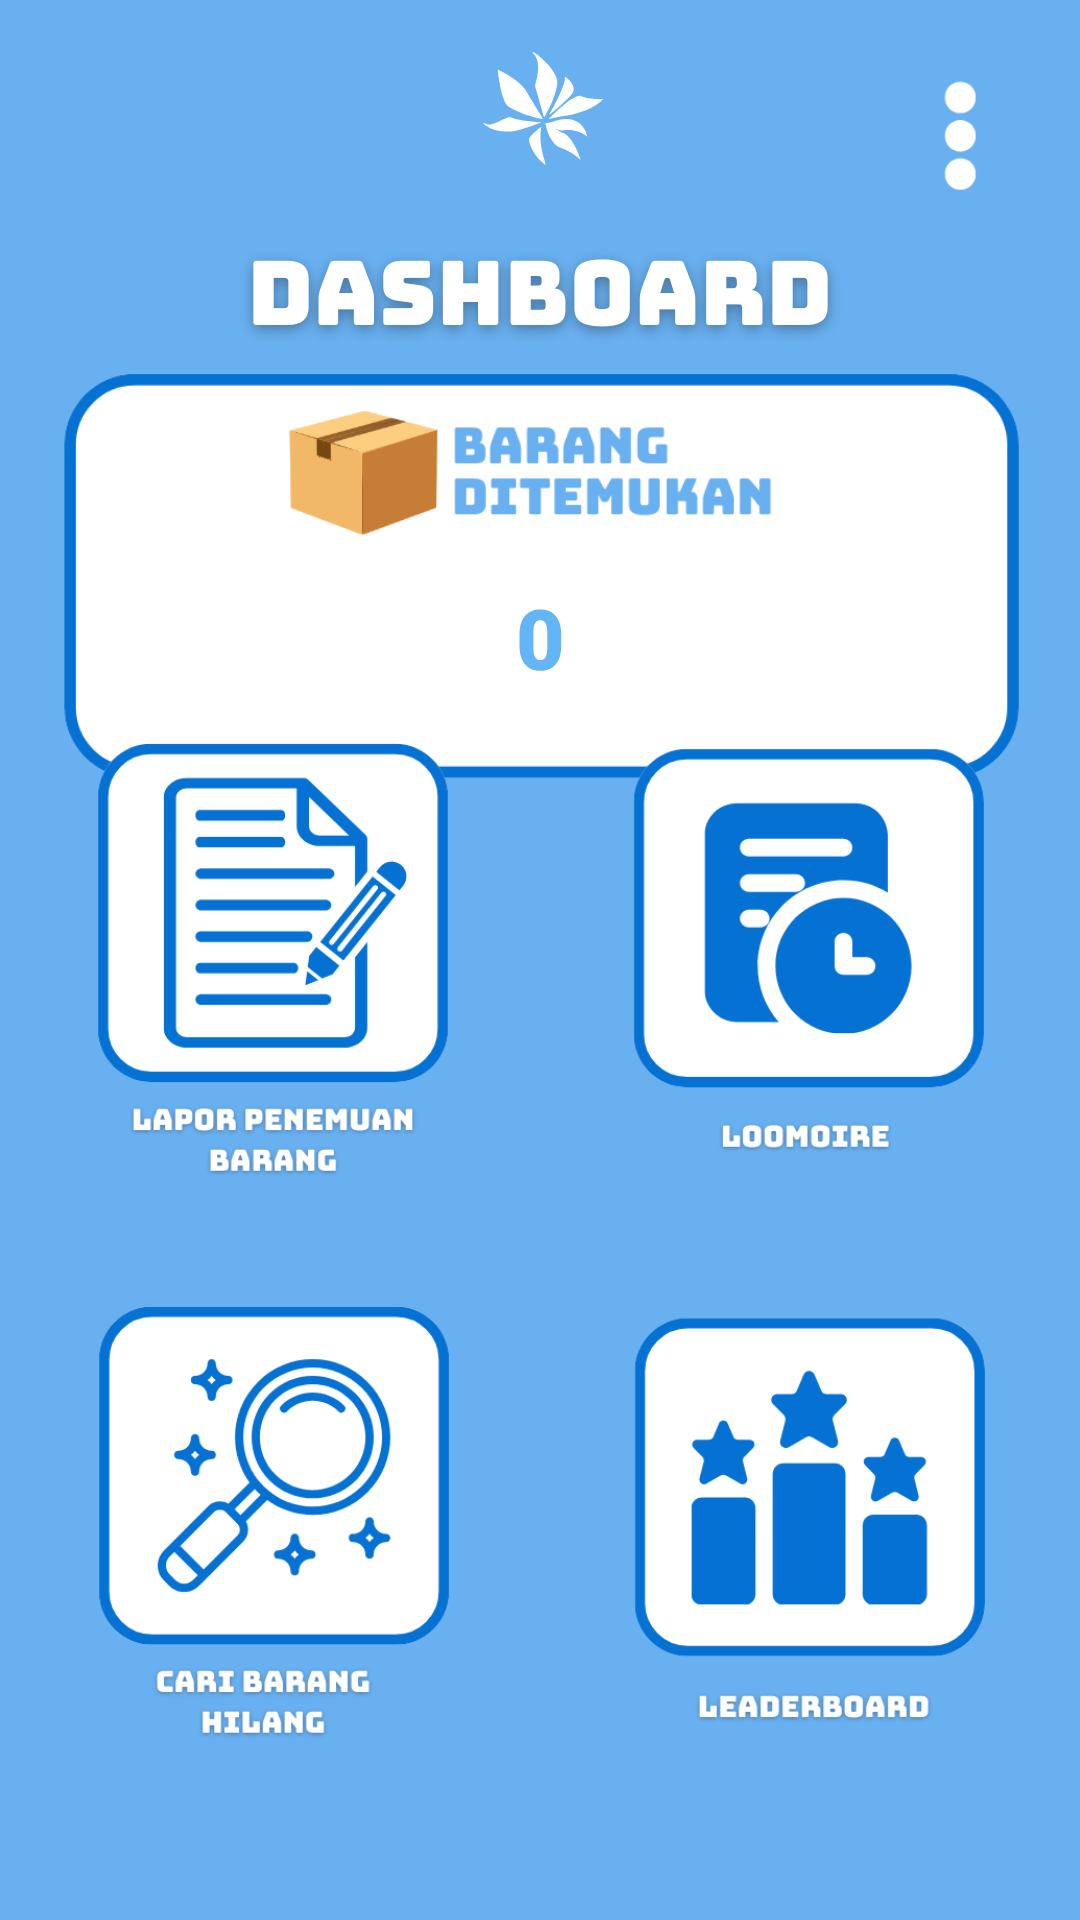

Locate icon controls on the screen. Image size 1080 x 1920, boxes as (x1, y1, x2, y2).
Menu: (944, 81, 976, 190)
